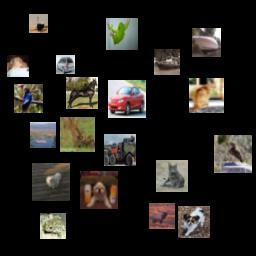automobile: (108, 80, 146, 118), (56, 55, 75, 74)
bird: (214, 135, 252, 173), (14, 84, 43, 113), (29, 14, 48, 33)
cat: (189, 78, 224, 113), (156, 160, 188, 192)
deer: (60, 117, 95, 152), (149, 203, 175, 229)
dog: (80, 171, 118, 209), (32, 163, 70, 201), (178, 206, 210, 238), (7, 55, 29, 77)
frog: (106, 18, 138, 50), (40, 213, 66, 239)
ship: (192, 28, 221, 57), (154, 49, 180, 75), (30, 122, 56, 148)
truck: (104, 134, 136, 166)
